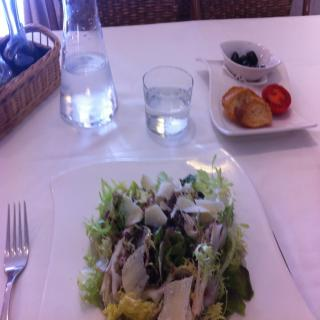Salad: (77, 149, 254, 320)
